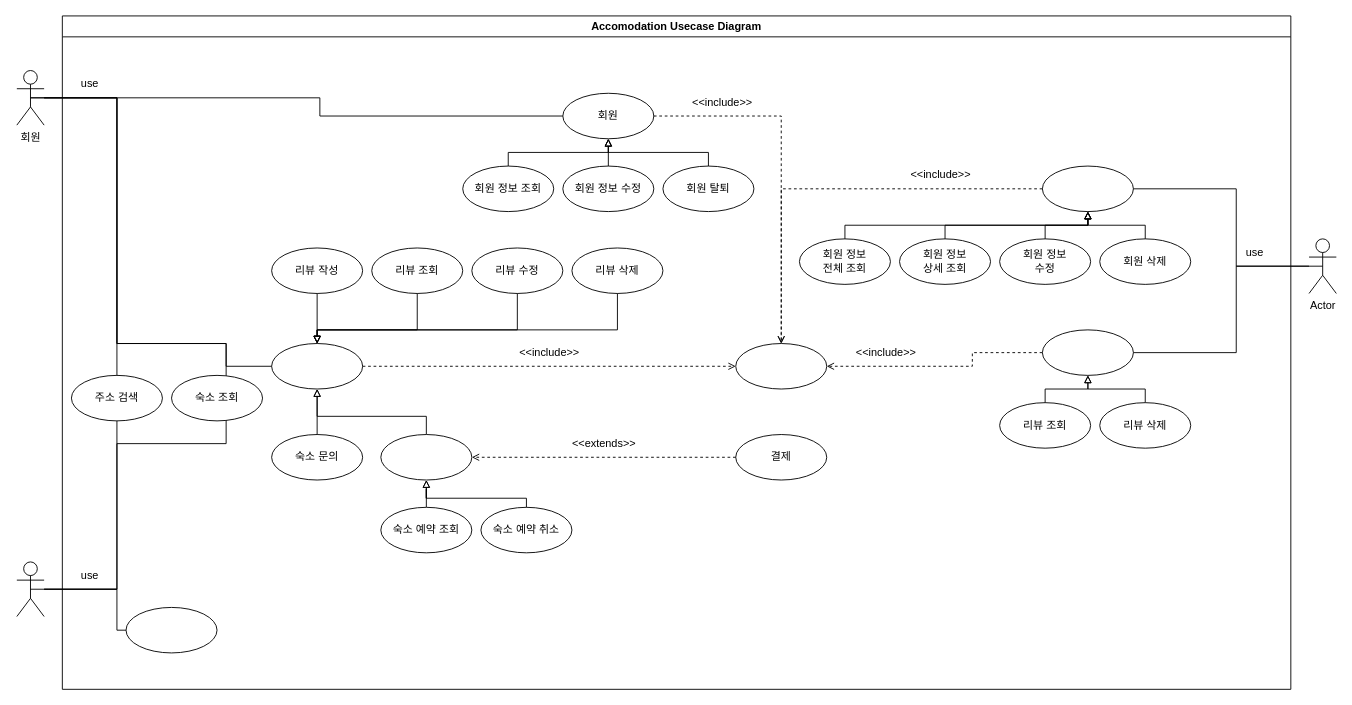
Some shapes in this 1352 by 705 pixel diagram are drawn without their labels. The shapes that lost their labels are listed below. From the top down, each one's box as (x1, y1, x2, y2) in pixels, then its label:
(1041, 165, 1133, 212): 회원 관리
(271, 343, 363, 389): 숙소
(735, 343, 827, 389): 사용자 인증
(1041, 329, 1133, 375): 리뷰 관리
(380, 434, 472, 480): 숙소 예약
(16, 561, 44, 617): 비회원
(125, 607, 217, 653): 회원가입
